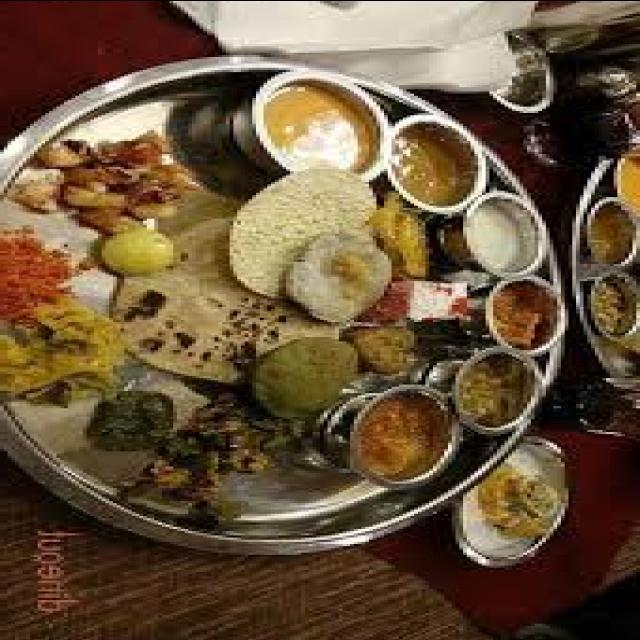curd: (244, 70, 388, 177)
papad: (223, 166, 385, 298), (217, 2, 537, 54)
roti: (109, 329, 321, 509)
sambar-rasam: (338, 379, 464, 491), (386, 110, 490, 212), (486, 275, 562, 353), (580, 188, 635, 274)
sweet: (453, 438, 578, 557), (248, 71, 382, 175), (444, 347, 544, 433), (488, 274, 565, 350)
